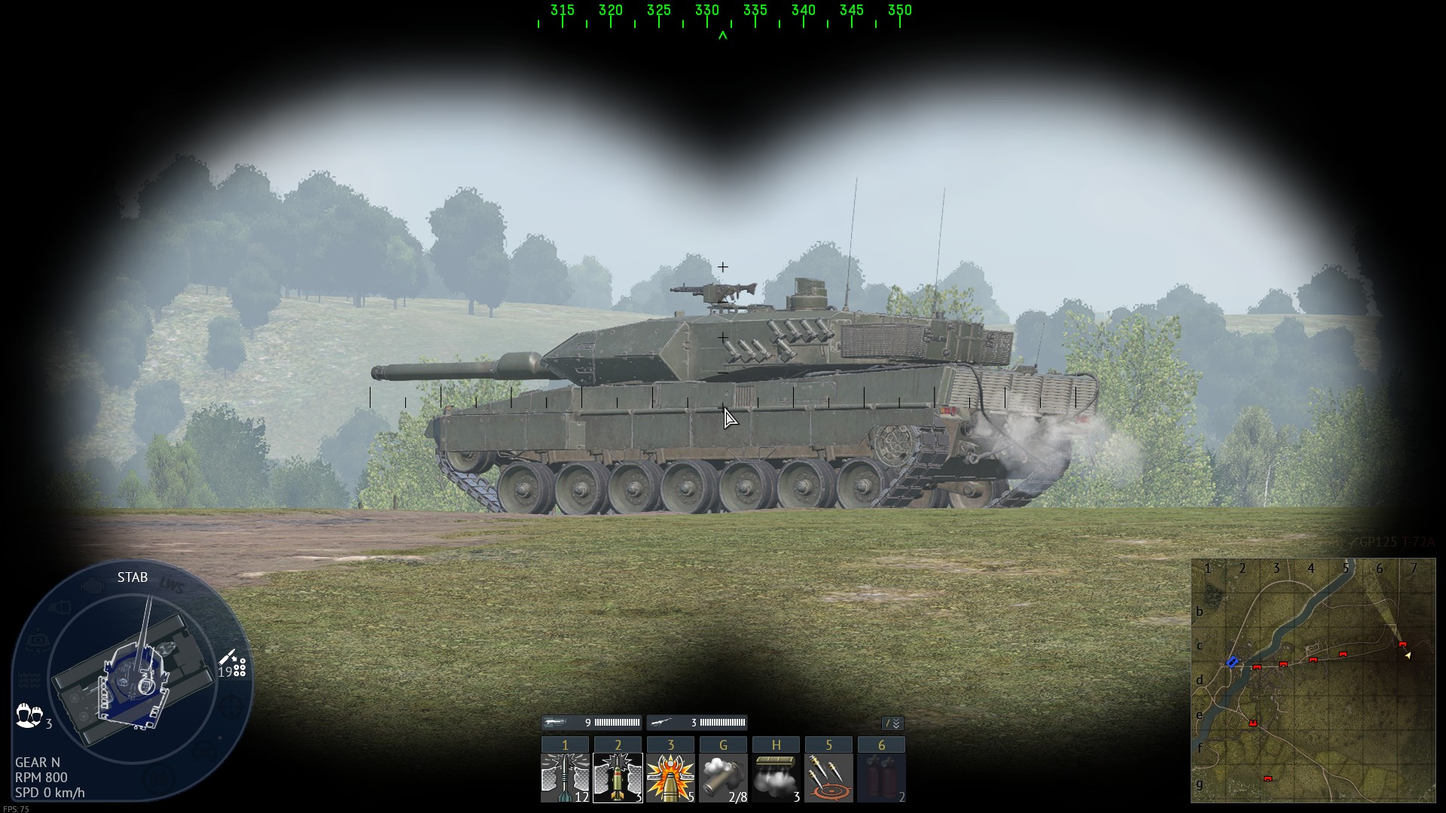leopard2: (371, 279, 1099, 516)
